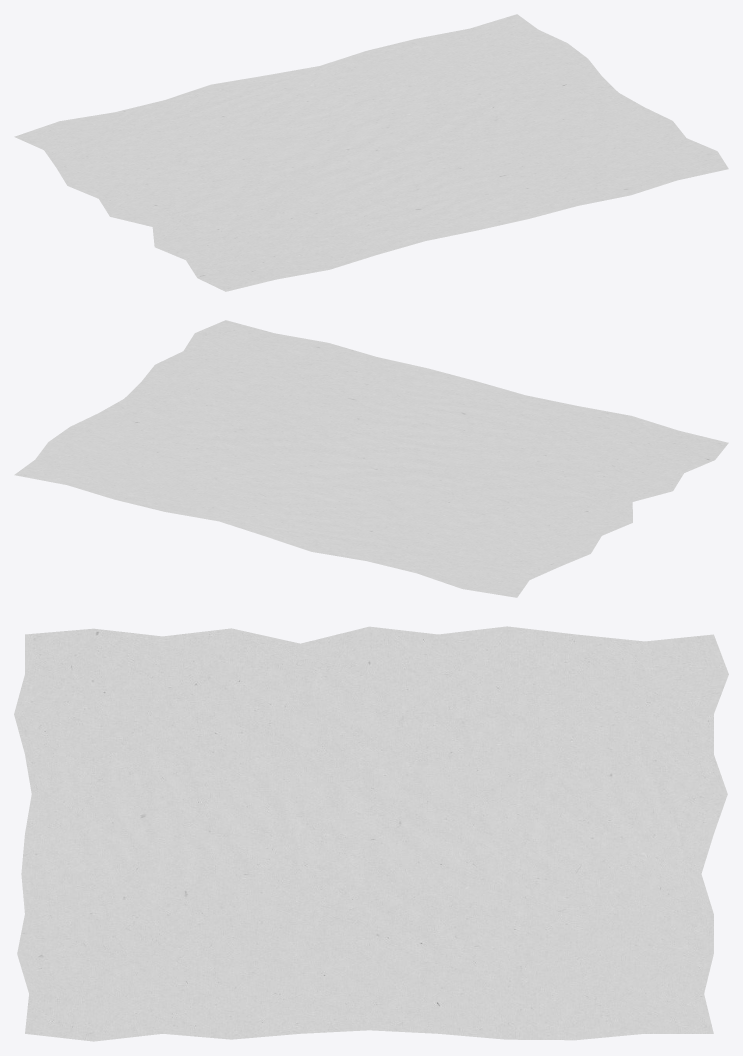
Rendered from peper.fbx.
The picture shows the model from 3 angles, top to bottom: view 1: azimuth 30°, elevation 25°; view 2: azimuth 150°, elevation 25°; view 3: azimuth 270°, elevation 25°; orthographic projection. The views are drawn at different scales.
Parts seen in each view (by area): view 1: pPlane1; view 2: pPlane1; view 3: pPlane1.
Boxes of the visible parts, x1,y1,x2,y2 form: pPlane1: (14, 14, 728, 291); pPlane1: (14, 320, 728, 597); pPlane1: (14, 626, 728, 1041).
Size of the model in its own units: 7.06 by 2.53e-08 by 5.14.
